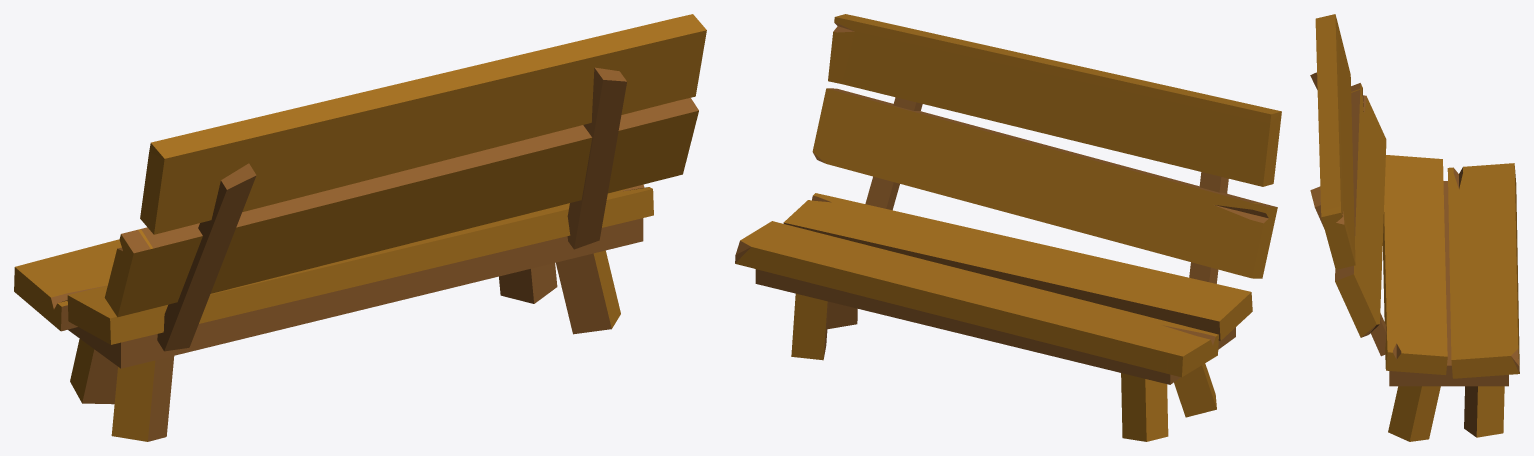
The model's file is banco_comprido_2.fbx.
3 views of the same model, side by side, from view 1: azimuth 30°, elevation 25°; view 2: azimuth 150°, elevation 25°; view 3: azimuth 270°, elevation 25° (orthographic). The views are drawn at different scales.
Parts seen in each view (by area): view 1: banco_comprido_2; view 2: banco_comprido_2; view 3: banco_comprido_2.
Boxes of the visible parts, x1=… form: banco_comprido_2: x1=14, y1=14, x2=706, y2=441; banco_comprido_2: x1=735, y1=14, x2=1281, y2=441; banco_comprido_2: x1=1310, y1=14, x2=1519, y2=441.
Bounding box in the file's own units: 269 × 159 × 120.
